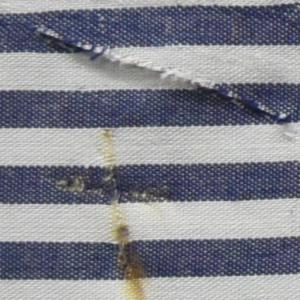Damage: (32, 25, 297, 131), (55, 174, 165, 204)
Oil Stain: (90, 131, 151, 300)
